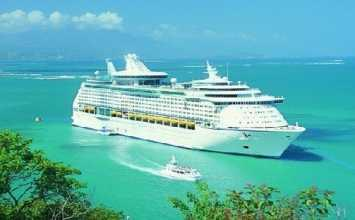youlun: (63, 52, 311, 157)
